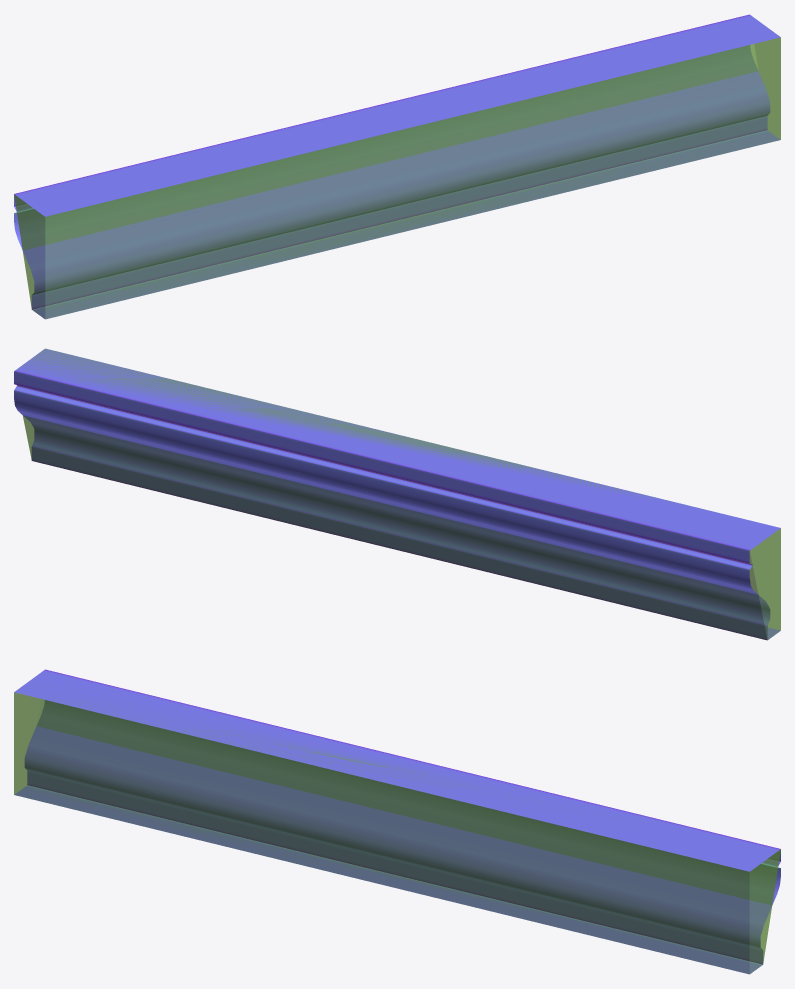
Rendered from F_md_TrimH_3m_02.fbx.
3 views of the same model, one above another, from view 1: azimuth 30°, elevation 25°; view 2: azimuth 150°, elevation 25°; view 3: azimuth 330°, elevation 25° (orthographic).
Parts seen in each view (by area): view 1: F_md_TrimH_3m_02_LOD0, F_md_TrimH_3m_02_col_01; view 2: F_md_TrimH_3m_02_LOD0, F_md_TrimH_3m_02_col_01; view 3: F_md_TrimH_3m_02_LOD0, F_md_TrimH_3m_02_col_01.
Boxes of the visible parts, x1=… form: F_md_TrimH_3m_02_LOD0: x1=14, y1=14, x2=780, y2=319; F_md_TrimH_3m_02_col_01: x1=14, y1=37, x2=780, y2=319; F_md_TrimH_3m_02_LOD0: x1=14, y1=348, x2=780, y2=640; F_md_TrimH_3m_02_col_01: x1=16, y1=348, x2=780, y2=640; F_md_TrimH_3m_02_LOD0: x1=14, y1=669, x2=780, y2=974; F_md_TrimH_3m_02_col_01: x1=14, y1=691, x2=780, y2=974.
Size of what is drawn, in the model's own units: 300 by 40 by 22.04.
Materials: 2 (1 with a texture image).
